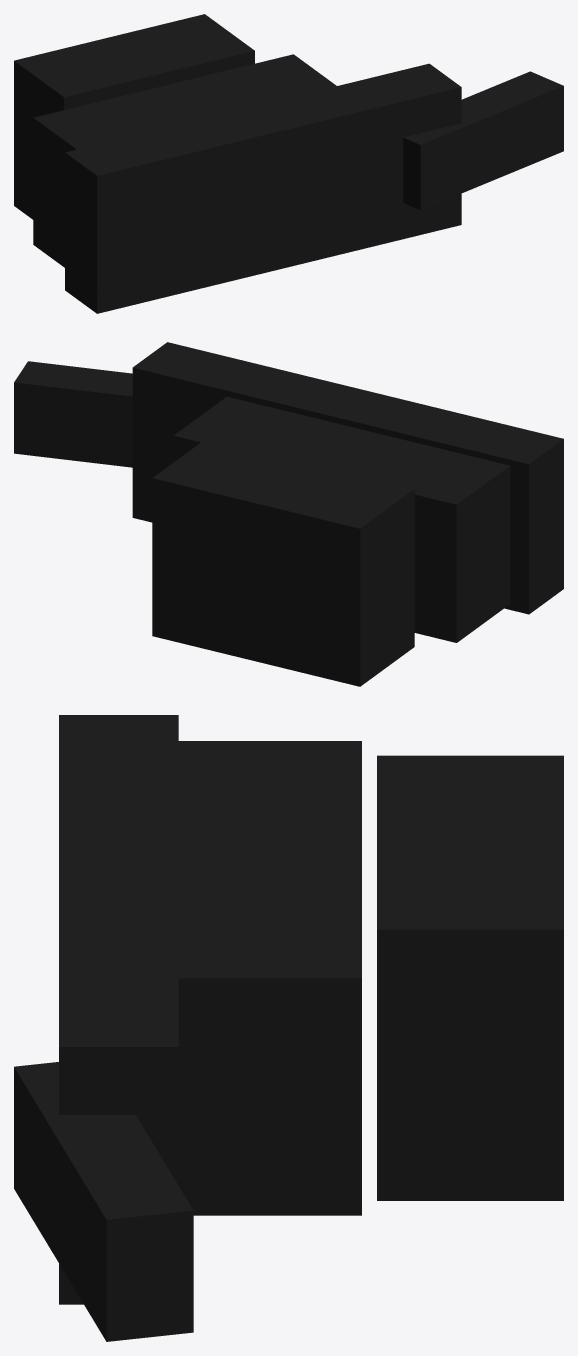
The model's file is kowadlo_r0_01.glb.
3 views of the same model, one above another, from view 1: azimuth 30°, elevation 25°; view 2: azimuth 150°, elevation 25°; view 3: azimuth 270°, elevation 25° (orthographic). The views are drawn at different scales.
Parts seen in each view (by area): view 1: top, base, body, horn; view 2: base, top, body, horn; view 3: body, base, top, horn.
Part boxes in pixels (x1,y1,x2,y2): top: (65,63,461,313); base: (14,14,254,219); body: (33,54,336,267); horn: (403,71,563,210); base: (152,438,414,686); top: (132,342,563,614); body: (173,396,510,642); horn: (14,361,132,467); body: (178,741,361,1215); base: (377,755,563,1200); top: (59,715,178,1304); horn: (14,1062,193,1341).
Bounding box in the file's own units: 1.38 × 0.4 × 0.735.
1 material, 1 textured.
